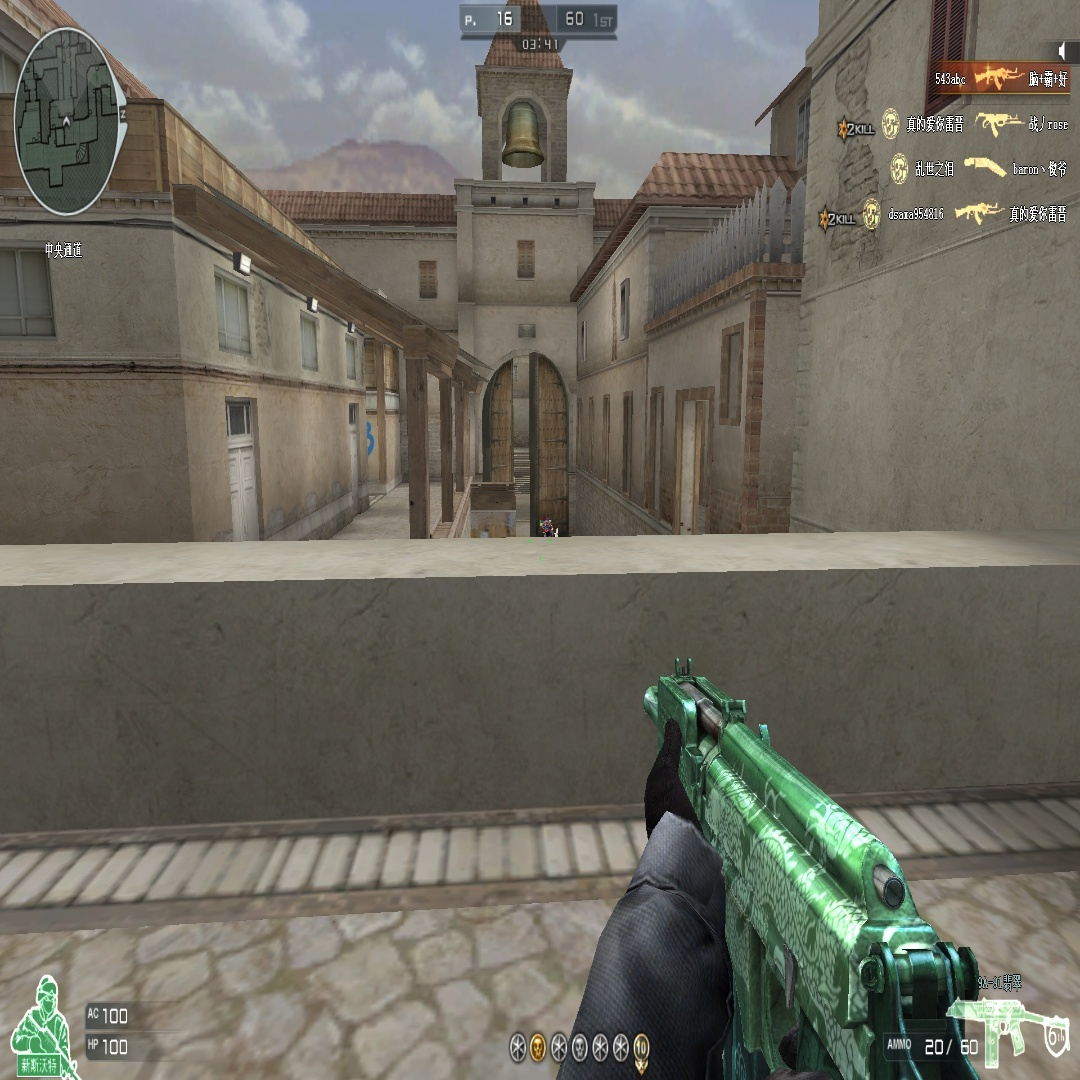p: (543, 514, 557, 538)
